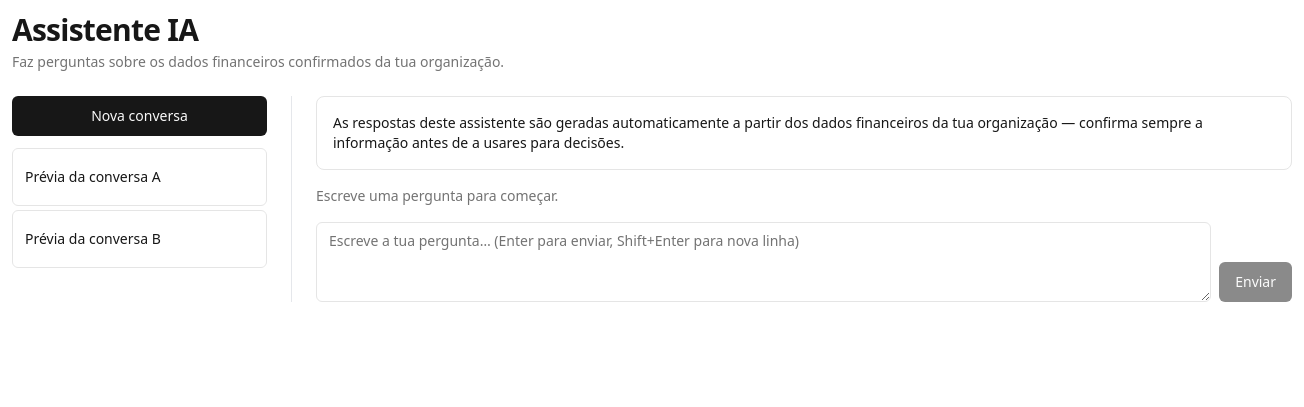
Test: AiChatPage (Fase 8) › lista as conversas existentes e permite mudar entre elas
Check: the text "Prévia da conversa A" is shown, box left=25, top=167, right=161, bottom=186
Click the button "Prévia da conversa A" at (123, 177), box left=25, top=167, right=221, bottom=187
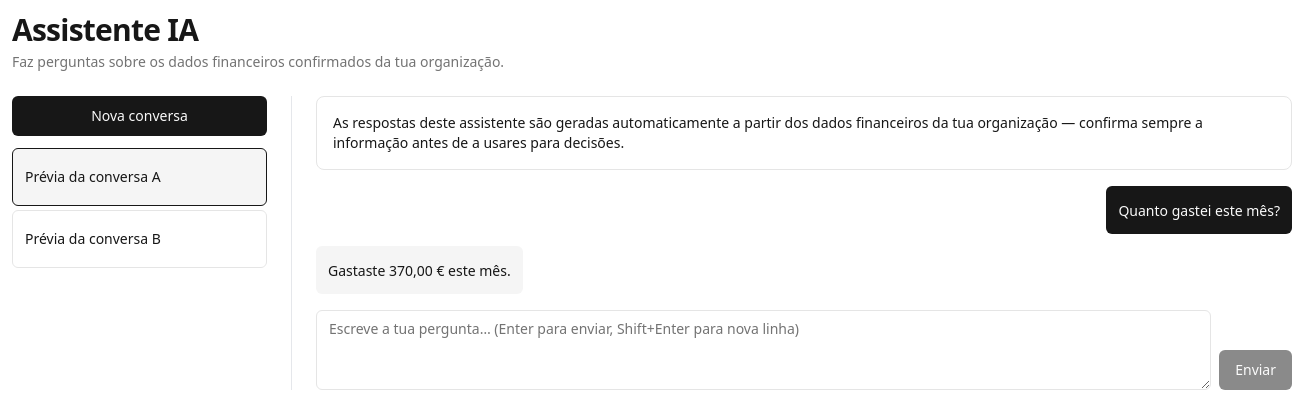
Check: the text "Gastaste 370,00 € este mês." is shown, box left=328, top=261, right=511, bottom=280
Click the button "Prévia da conversa B" at (123, 239), box left=25, top=229, right=221, bottom=249
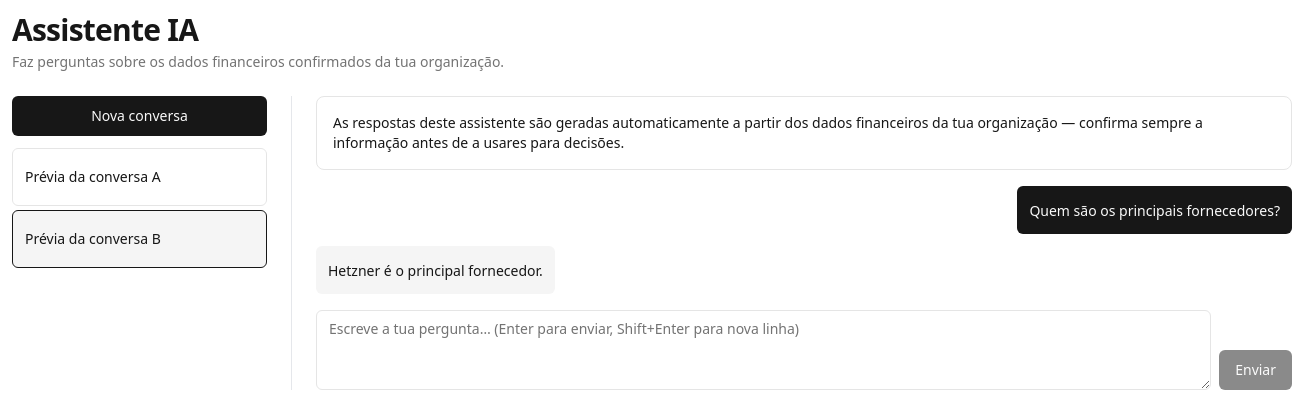
Check: the text "Hetzner é o principal fornecedor." is shown, box left=328, top=261, right=543, bottom=280
Check: the text "Gastaste 370,00 € este mês." is gone
